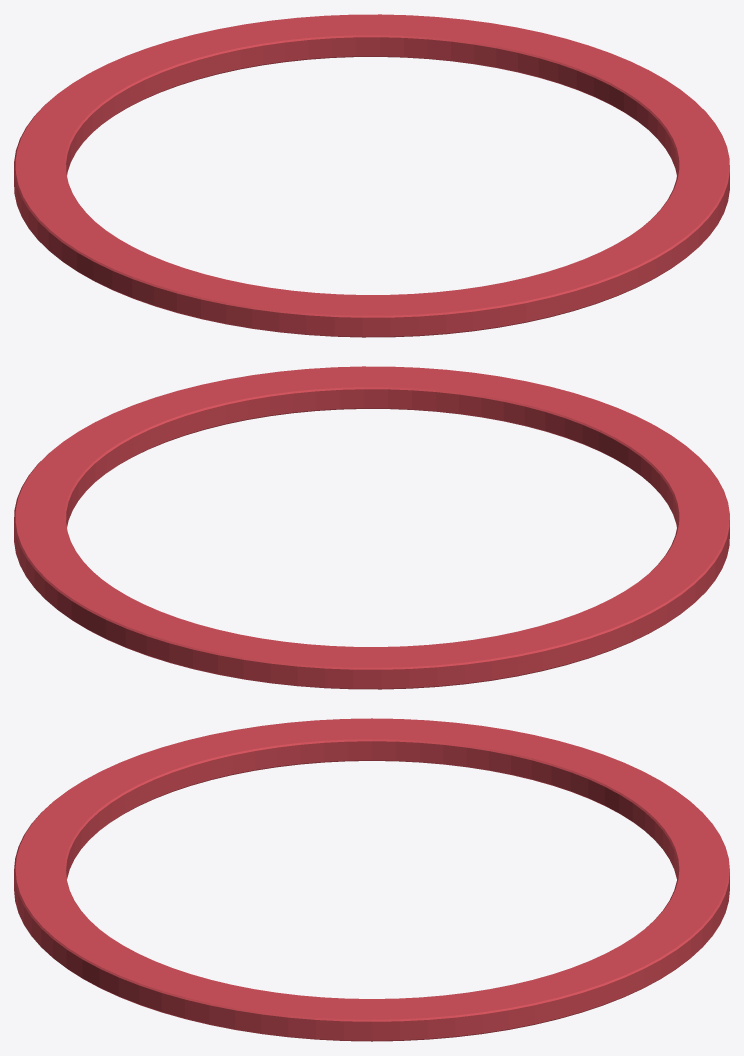
Rendered from anillo_seguridad.glb.
3 renders of one model, top to bottom at view 1: azimuth 30°, elevation 25°; view 2: azimuth 150°, elevation 25°; view 3: azimuth 270°, elevation 25°, orthographic.
Size of the model in its own units: 3.78 by 0.1267 by 3.78.
